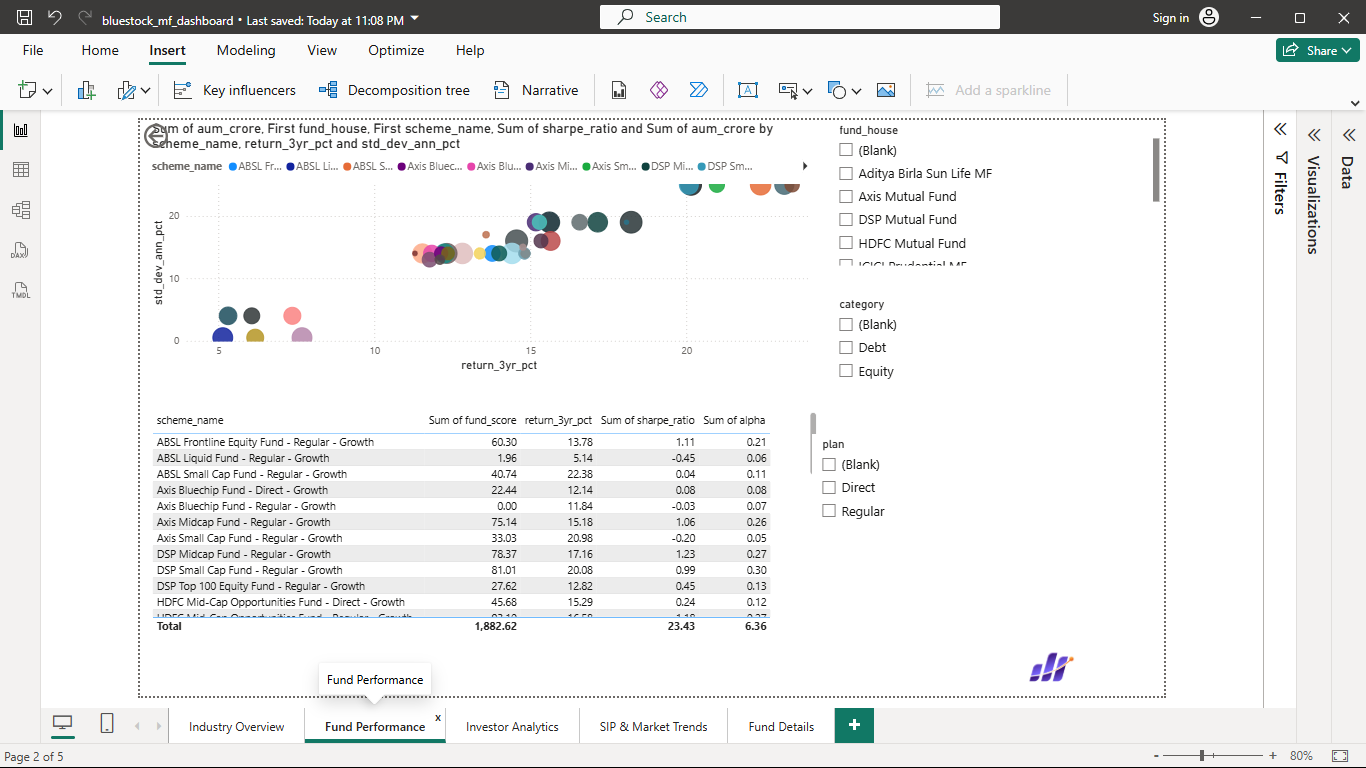

Layout of this report page (visuals, bound fields, positions):
{"tool":"powerbi","page":{"name":"Fund Performance","canvas":[1280,720],"ordinal":1},"visuals":[{"type":"scatterChart","fields":{"X":["clean_scheme_performance.return_3yr_pct"],"Y":["clean_scheme_performance.std_dev_ann_pct"],"Size":["Sum(clean_scheme_performance.aum_crore)"],"Series":["clean_scheme_performance.scheme_name"]},"box":[9.6,0,840.9,319.3],"z":0},{"type":"tableEx","fields":{"Values":["fund_scorecard.scheme_name","Sum(fund_scorecard.fund_score)","fund_scorecard.return_3yr_pct","Sum(fund_scorecard.sharpe_ratio)","Sum(fund_scorecard.alpha)"]},"box":[9.6,360.6,840.9,286.3],"z":1000},{"type":"slicer","fields":{"Values":["01_fund_master.fund_house"]},"box":[861.6,0,418.4,187.2],"z":2000},{"type":"slicer","fields":{"Values":["01_fund_master.category"]},"box":[861.6,217.5,418.4,207.8],"z":3000},{"type":"slicer","fields":{"Values":["01_fund_master.plan"]},"box":[839.6,392.3,418.4,221.6],"z":4000},{"type":"actionButton","box":[0,0,100,40],"z":4001},{"type":"image","box":[999.2,646.9,280.8,72.9],"z":4002}]}

Visuals, with their boxes on the page's 1280x720 design canvas (x1, y1, x2, y2). These are canvas units, not pixel positions in the 1366x768 screenshot, which may show the page scaled, cropped or inside an application window:
scatterChart - clean_scheme_performance.return_3yr_pct x clean_scheme_performance.std_dev_ann_pct: rect(10, 0, 850, 319)
tableEx - fund_scorecard.scheme_name x Sum(fund_scorecard.fund_score): rect(10, 361, 850, 647)
slicer - 01_fund_master.fund_house: rect(862, 0, 1280, 187)
slicer - 01_fund_master.category: rect(862, 218, 1280, 425)
slicer - 01_fund_master.plan: rect(840, 392, 1258, 614)
actionButton: rect(0, 0, 100, 40)
image: rect(999, 647, 1280, 720)
